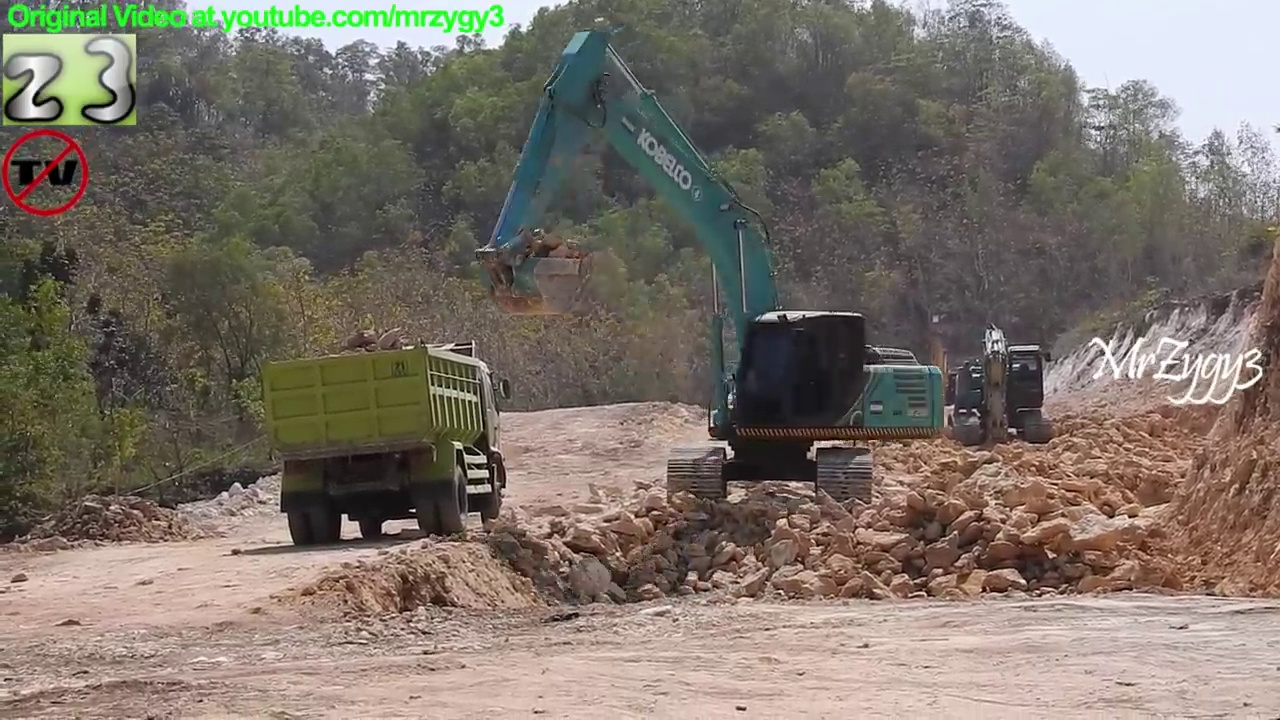excavator: (468, 12, 951, 516), (900, 309, 982, 424)
excavator breaker: (937, 317, 1060, 452)
truck: (257, 336, 515, 551)
